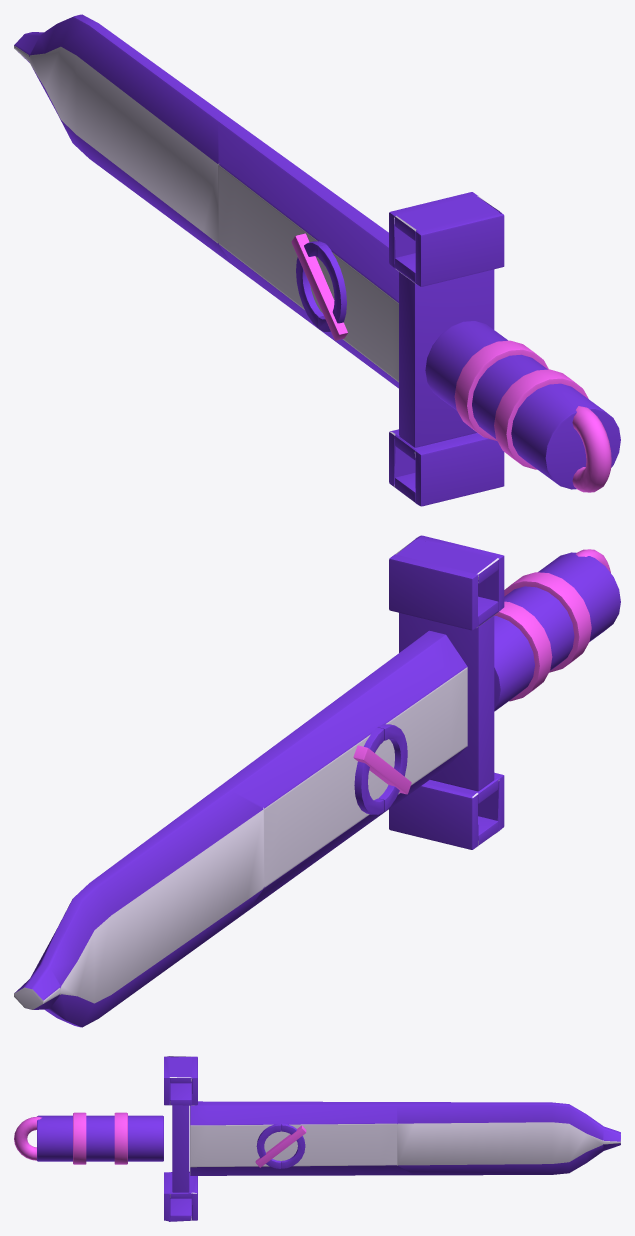
The model's file is Sword_NullbrandLongsword.glb.
3 views of the same model, one above another, from view 1: azimuth 30°, elevation 25°; view 2: azimuth 150°, elevation 25°; view 3: azimuth 270°, elevation 25° (orthographic). The views are drawn at different scales.
Parts seen in each view (by area): view 1: Sword_NullbrandLongsword; view 2: Sword_NullbrandLongsword; view 3: Sword_NullbrandLongsword.
Part boxes in pixels (box(x1,y1,x2,y2)): Sword_NullbrandLongsword: box(14, 14, 620, 506); Sword_NullbrandLongsword: box(14, 535, 620, 1027); Sword_NullbrandLongsword: box(14, 1056, 620, 1221).
Bounding box in the file's own units: 0.086 × 0.2629 × 1.
Materials: 1 (1 with a texture image).
